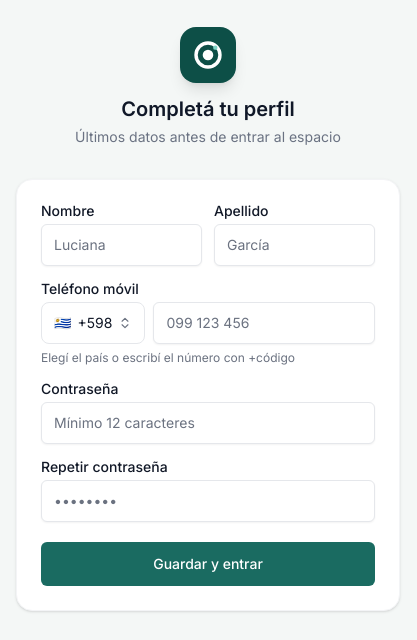
CompleteProfilePage › blocks a local phone and a short password before any request
The image size is (417, 640).
Type "Ada" into the field labelled "Nombre" at (122, 245), box [41, 224, 202, 266]
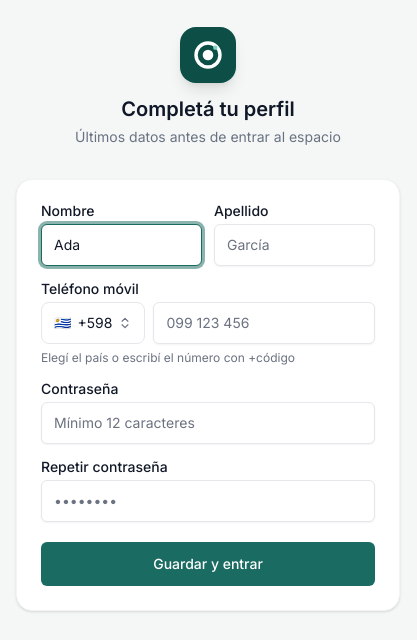
Type "Lovelace" into the field labelled "Apellido" at (294, 245), box [214, 224, 375, 266]
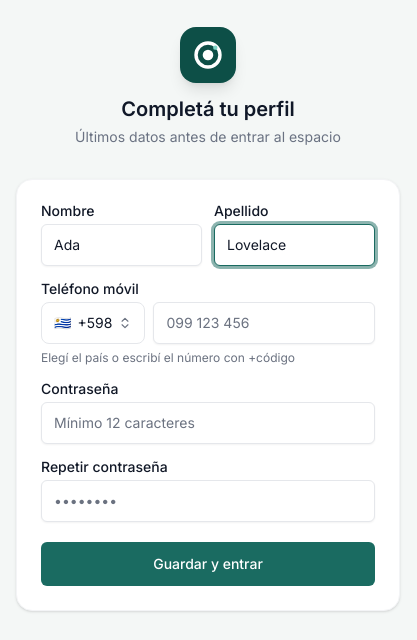
Type "1112345678" into the field labelled "Teléfono móvil" at (264, 323), box [153, 302, 375, 344]
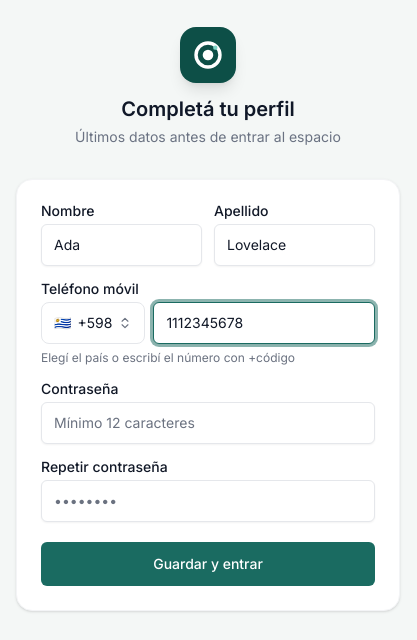
Type "corta123" into the password field labelled "Contraseña" at (208, 423), box [41, 402, 375, 444]
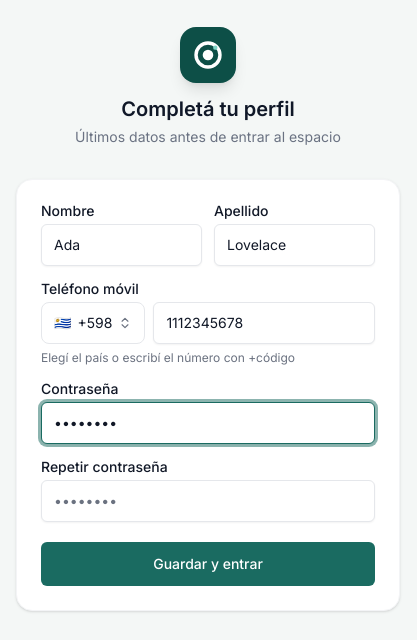
Type "corta123" into the password field labelled "Repetir contraseña" at (208, 501), box [41, 480, 375, 522]
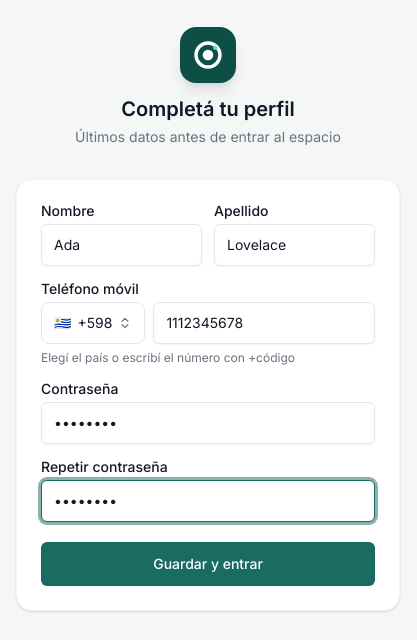
Click the button "Guardar y entrar" at (208, 564), box [41, 542, 375, 586]
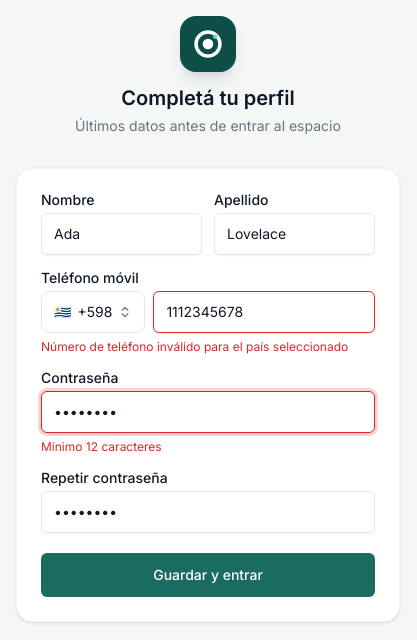
Result: the text "Número de teléfono inválido para el país seleccionado" is shown at [41, 339, 375, 355]
Result: the text "Mínimo 12 caracteres" is shown at [41, 439, 162, 454]
